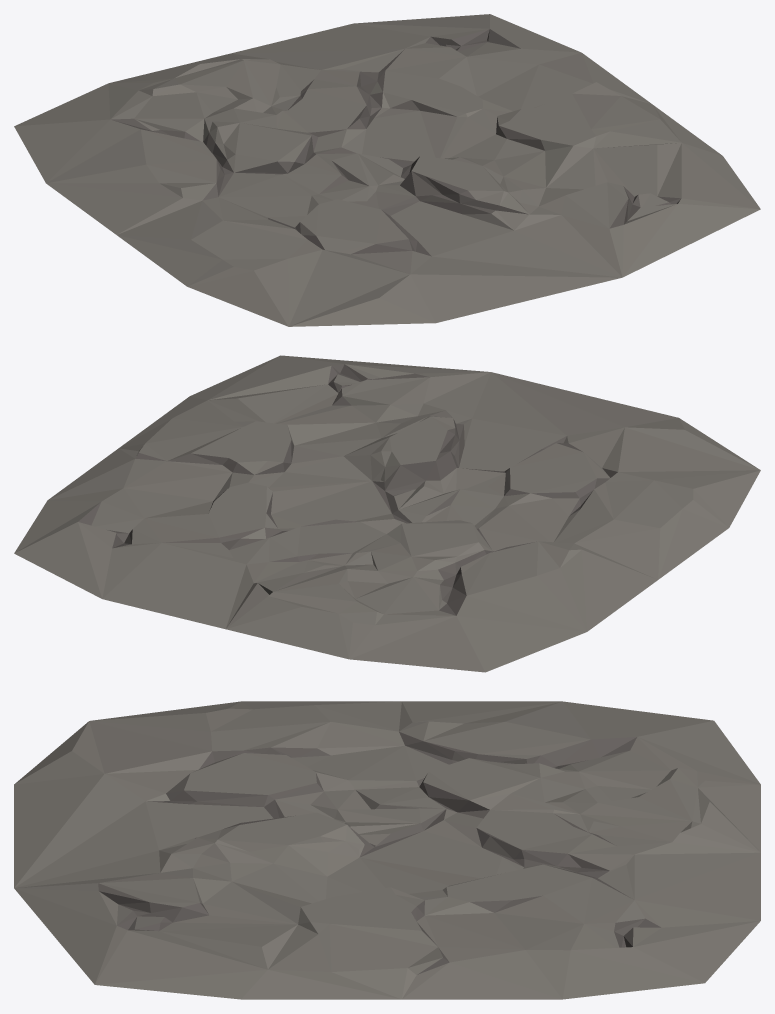
File: SM_Env_CrackedRock_01.FBX
3 renders of one model, top to bottom at view 1: azimuth 30°, elevation 25°; view 2: azimuth 150°, elevation 25°; view 3: azimuth 270°, elevation 25°, orthographic. The views are drawn at different scales.
Visible parts, largest first — view 1: SM_Env_CrackedRock_01; view 2: SM_Env_CrackedRock_01; view 3: SM_Env_CrackedRock_01.
Part boxes in pixels (left/top/right/bottom): SM_Env_CrackedRock_01: left=14, top=14, right=760, bottom=326; SM_Env_CrackedRock_01: left=14, top=355, right=760, bottom=672; SM_Env_CrackedRock_01: left=14, top=701, right=760, bottom=999.
Size of what is drawn, in the model's own units: 1185 by 1255 by 59.81.
